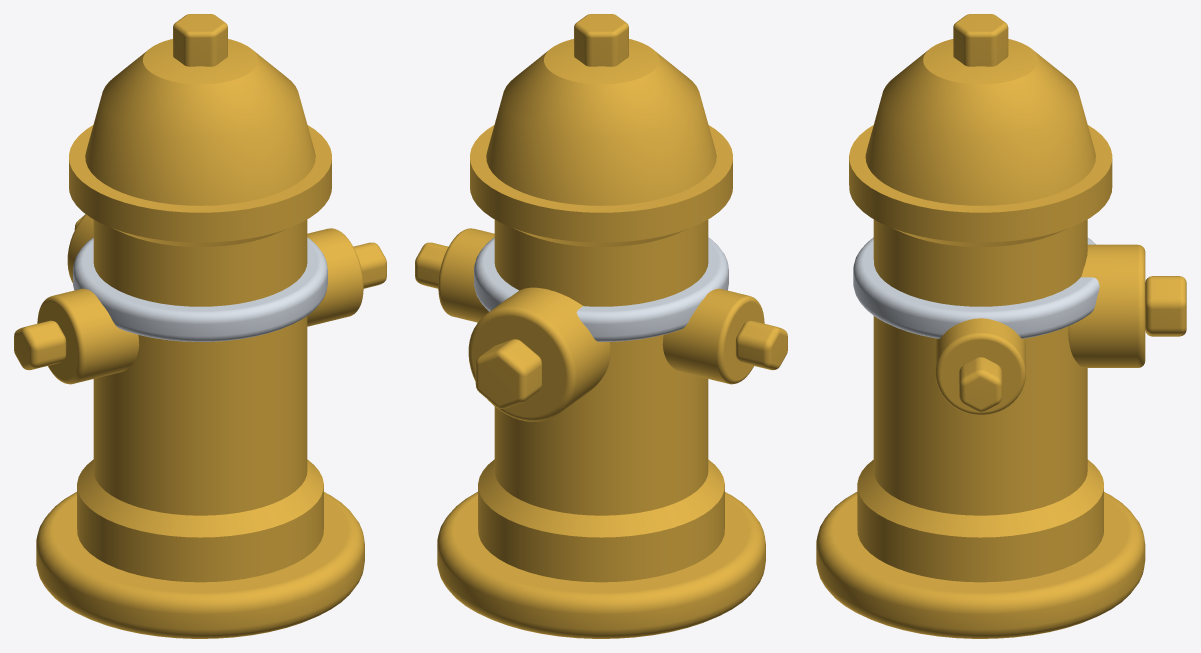
Rendered from gold_hydrant.glb.
The picture shows the model from 3 angles, left to right: view 1: azimuth 30°, elevation 25°; view 2: azimuth 150°, elevation 25°; view 3: azimuth 270°, elevation 25°; orthographic projection.
Parts seen in each view (by area): view 1: gold_hydrant; view 2: gold_hydrant; view 3: gold_hydrant.
Boxes of the visible parts, left/top/right/bottom form: gold_hydrant: left=14, top=14, right=386, bottom=638; gold_hydrant: left=415, top=14, right=787, bottom=638; gold_hydrant: left=816, top=14, right=1186, bottom=638.
Size of the model in its own units: 0.5 by 0.74 by 0.4496.
1 material, 1 textured.
